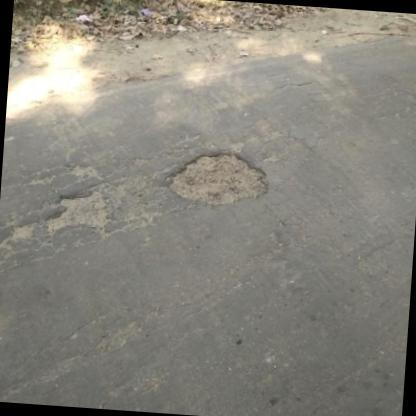pothole: (8, 182, 116, 252), (162, 148, 271, 206)
